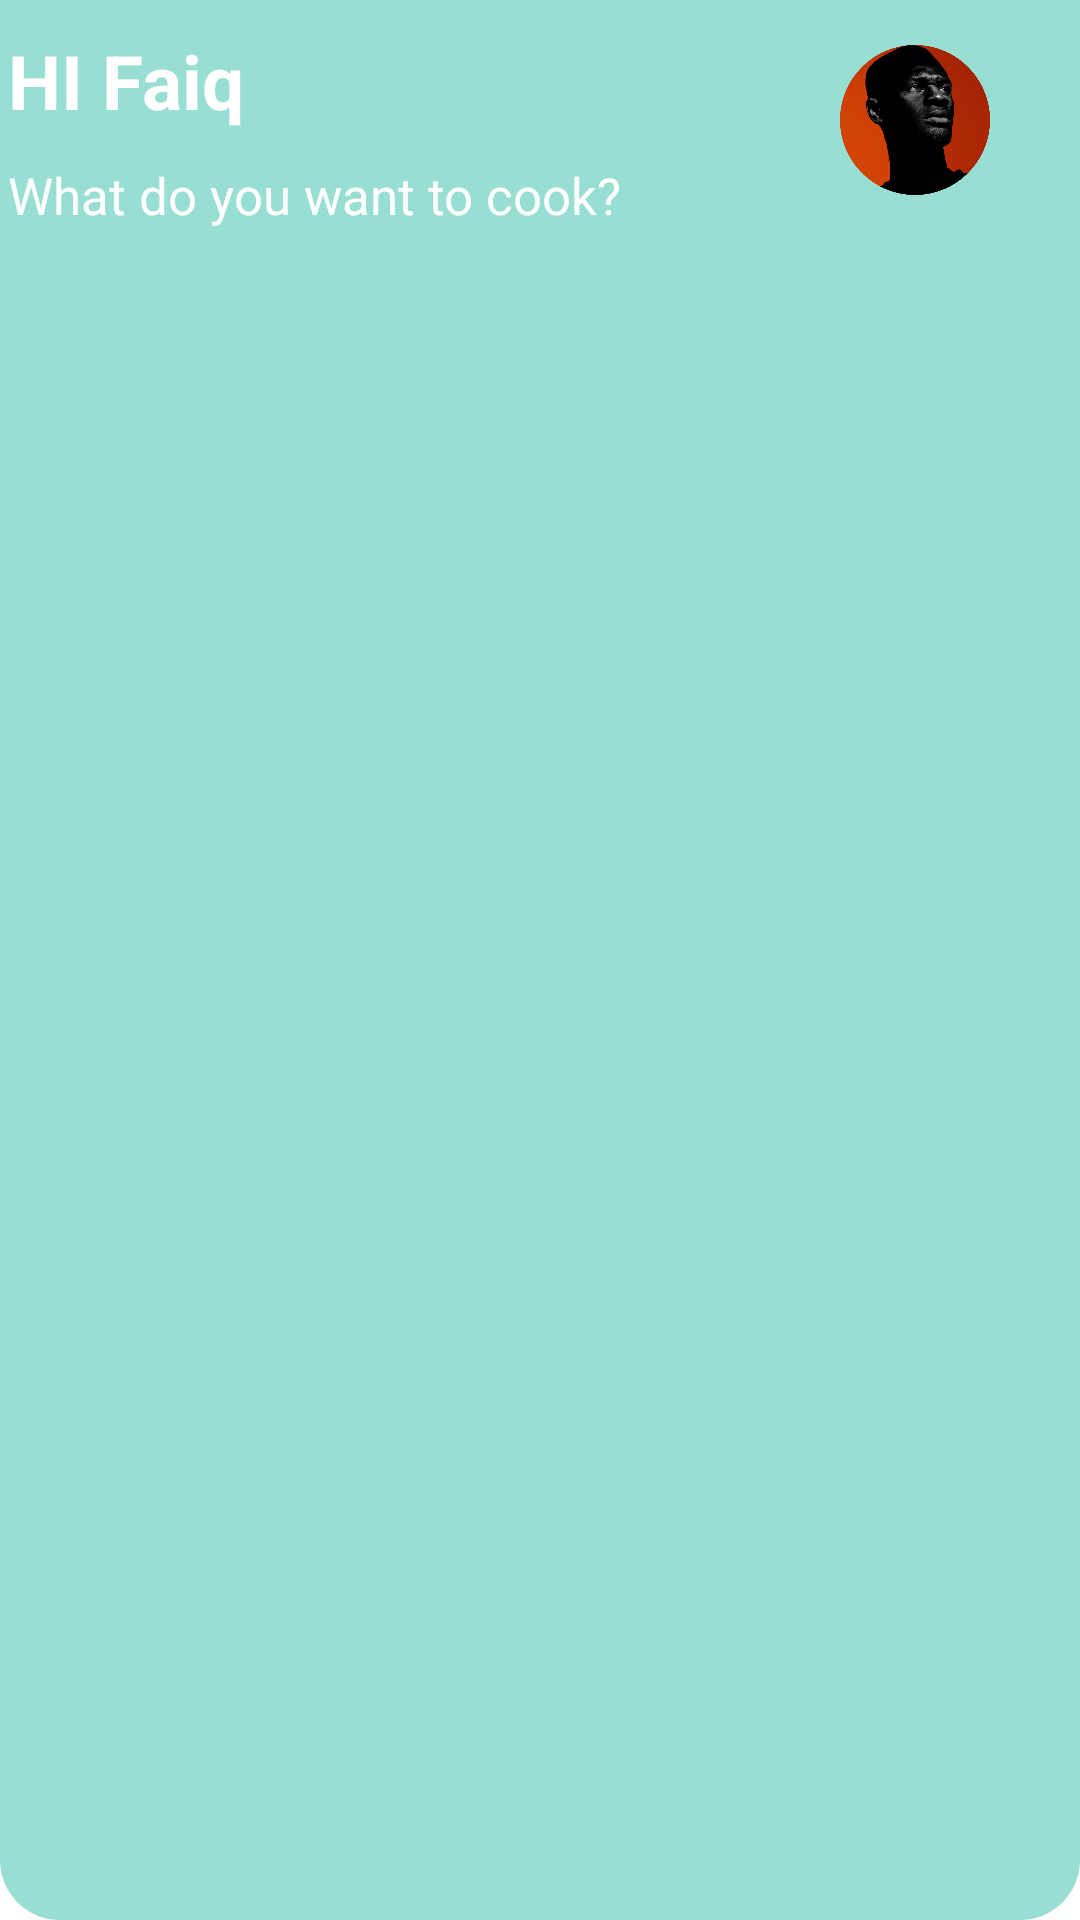

Point at icon controls on the screen. Image size 1080px×1920px, points as (x,y).
profile photo: (915,120)
